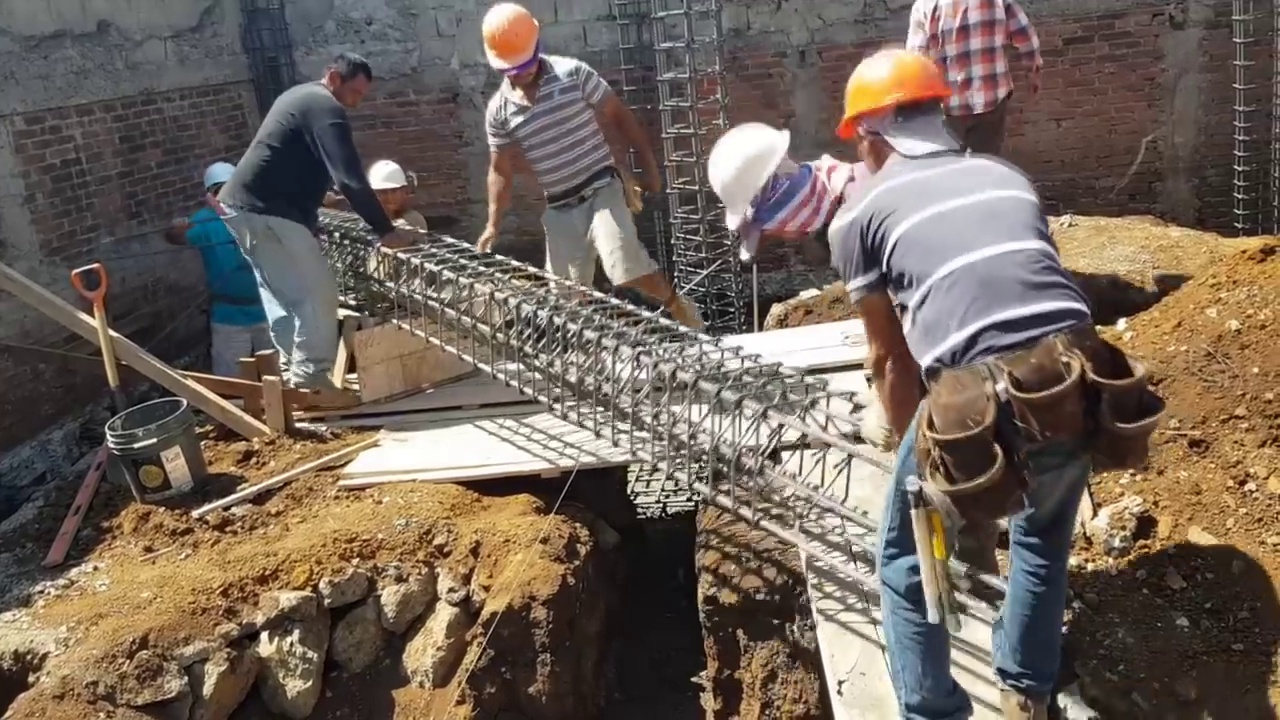helmet: (837, 44, 956, 125), (711, 117, 791, 221), (480, 7, 540, 69), (362, 159, 411, 193), (195, 154, 233, 184)
helmet-off: (320, 53, 371, 109)
helmet-on: (824, 35, 963, 190), (710, 106, 842, 255), (476, 10, 550, 94), (363, 160, 415, 214), (196, 155, 233, 217)
person: (825, 35, 1102, 717), (464, 10, 704, 308), (223, 47, 387, 392), (175, 150, 275, 376), (909, 0, 1046, 149), (346, 156, 421, 240)
